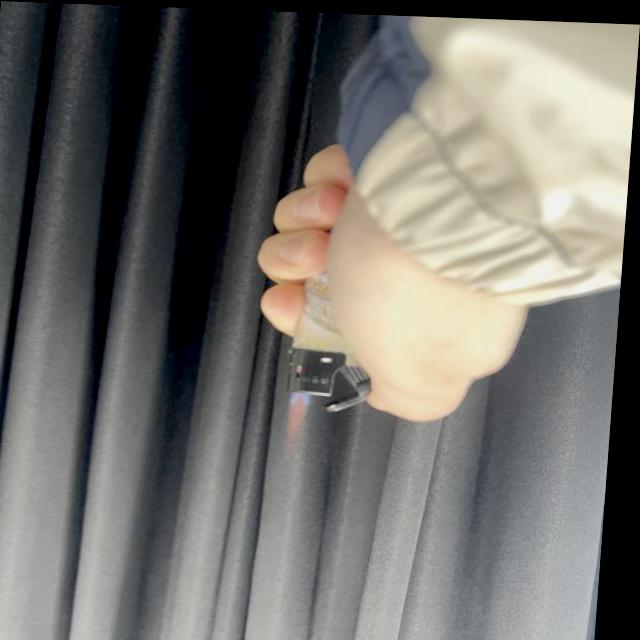Fire: (288, 386, 317, 455)
